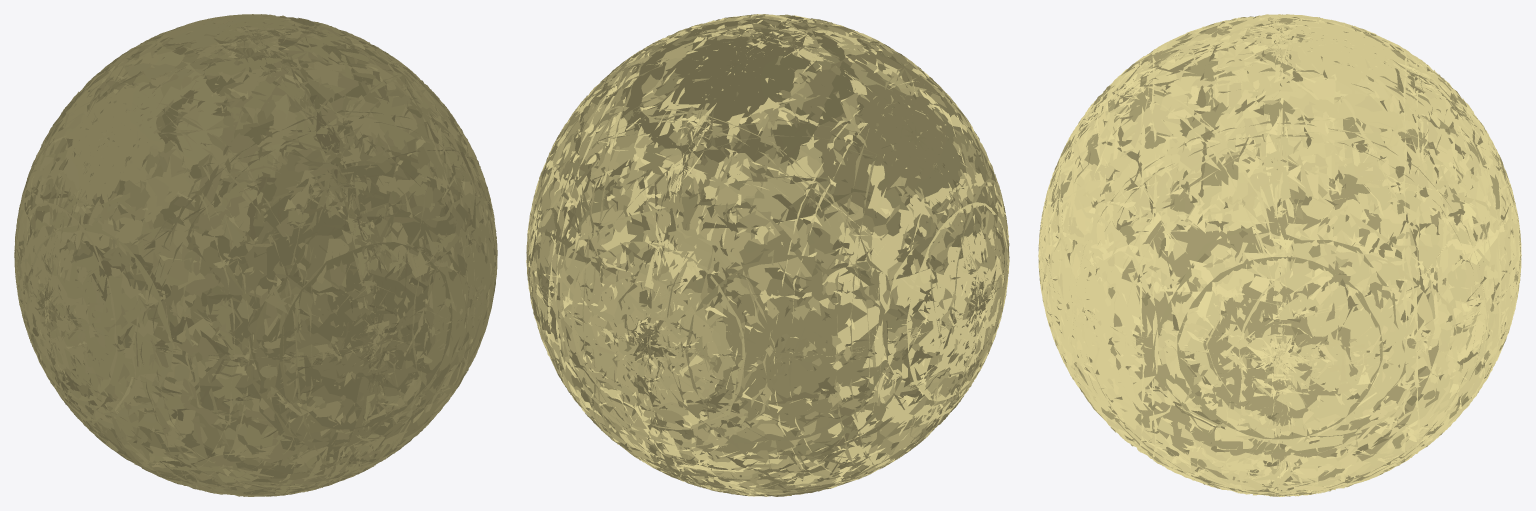
File: sys-sd-lighting.glb
3 renders of one model, left to right at view 1: azimuth 30°, elevation 25°; view 2: azimuth 150°, elevation 25°; view 3: azimuth 270°, elevation 25°, orthographic.
Parts seen in each view (by area): view 1: TS-sd-lighting-1685, TS-sd-lighting-1686, TS-sd-lighting-1688; view 2: TS-sd-lighting-1685, TS-sd-lighting-1686, TS-sd-lighting-1688; view 3: TS-sd-lighting-1685, TS-sd-lighting-1686, TS-sd-lighting-1688.
Part boxes in pixels (x1=…): TS-sd-lighting-1685: x1=14, y1=14, x2=497, y2=496; TS-sd-lighting-1686: x1=14, y1=14, x2=496, y2=496; TS-sd-lighting-1688: x1=14, y1=14, x2=497, y2=496; TS-sd-lighting-1685: x1=526, y1=14, x2=1009, y2=496; TS-sd-lighting-1686: x1=526, y1=14, x2=1009, y2=496; TS-sd-lighting-1688: x1=527, y1=14, x2=1009, y2=496; TS-sd-lighting-1685: x1=1038, y1=14, x2=1521, y2=496; TS-sd-lighting-1686: x1=1038, y1=14, x2=1521, y2=496; TS-sd-lighting-1688: x1=1038, y1=15, x2=1521, y2=496.
Size of the model in its own units: 2 by 2 by 2.
